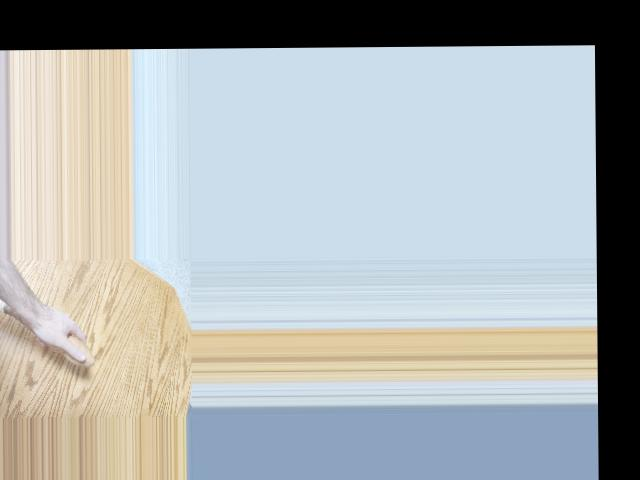sweet_potato: (4, 305, 96, 368)
